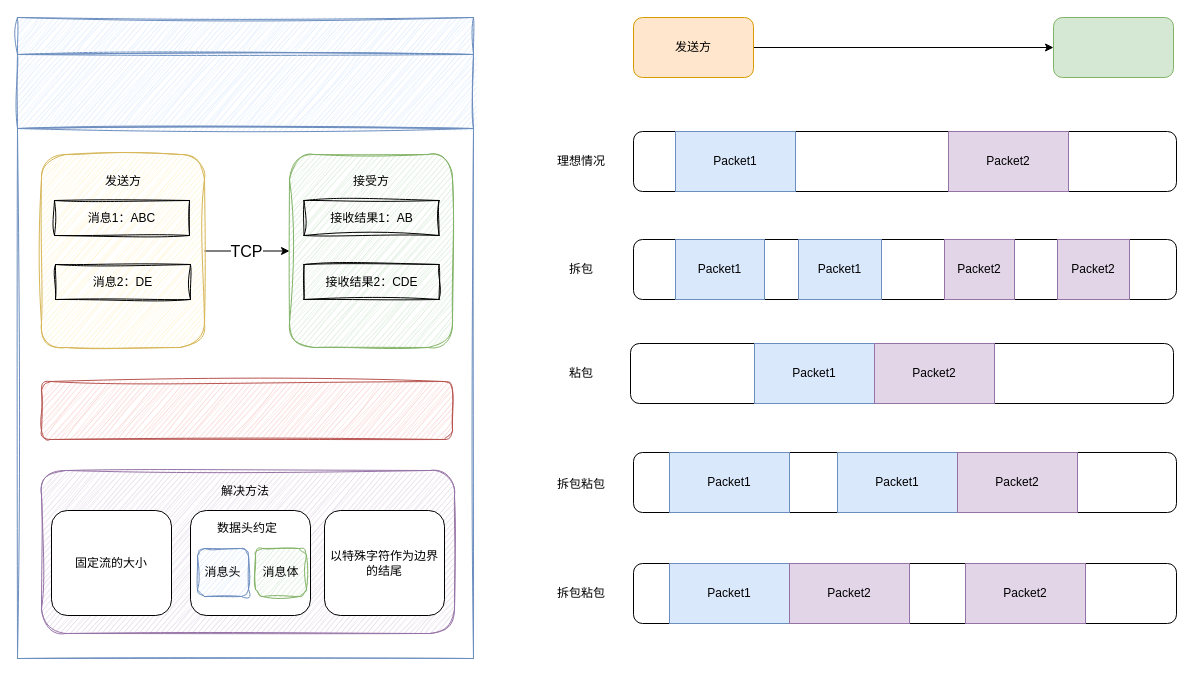
Some shapes in this 1194 by 676 pixel diagram are drawn without their labels. Here are the shapes that lost their labels. From the top down, the centre of each, then its label:
[245,35]: 粘包与拆包
[1113,47]: 接收方
[245,91]: TCP是面向连接的传输协议，以流的形式传输数据，没有明确的开始与结尾
[246,410]: 原因：流没有标识符
